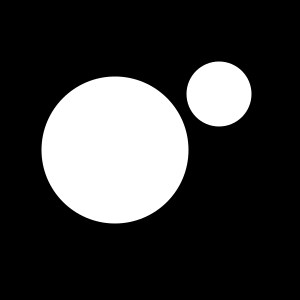rectangle: (42, 76, 189, 224), (186, 62, 252, 126)
